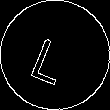L_N: (31, 26, 79, 84)
